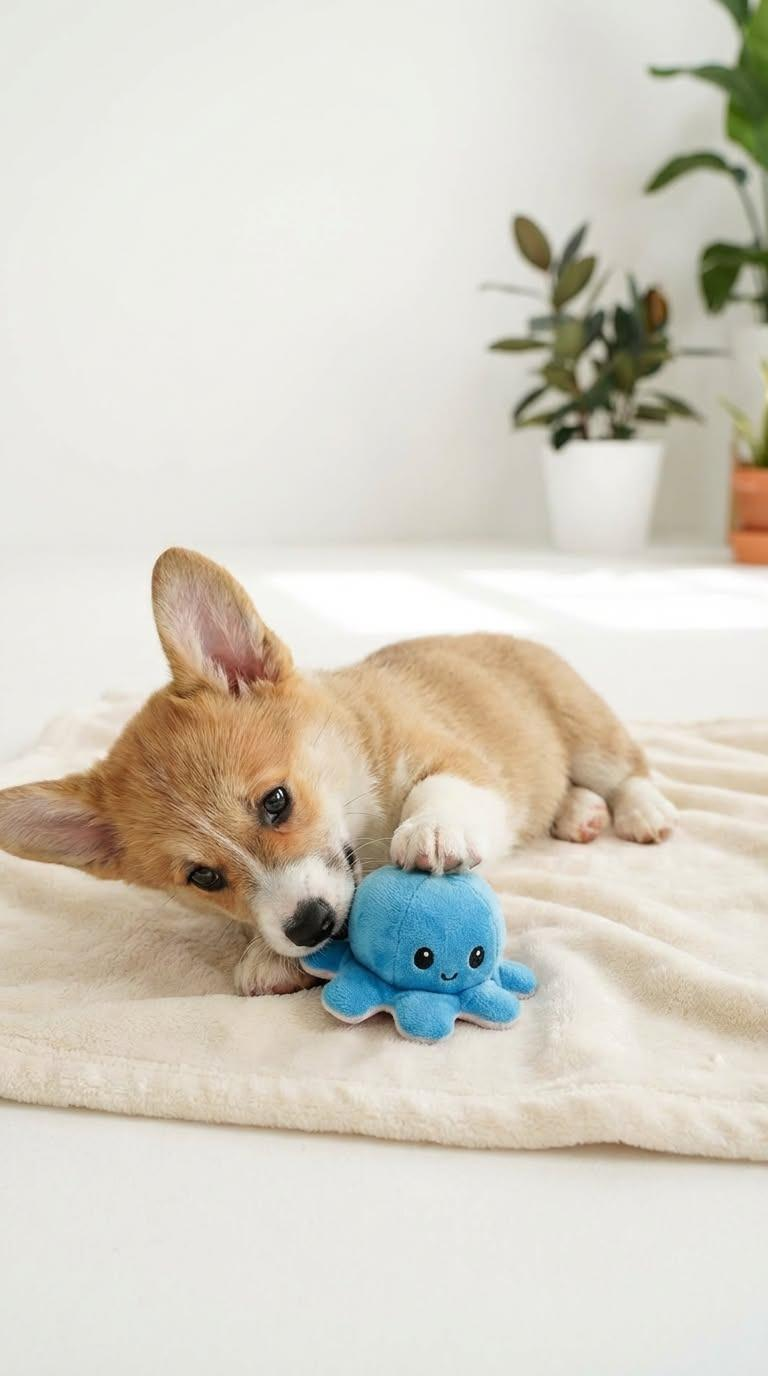puppy-dog: (0, 546, 680, 999)
